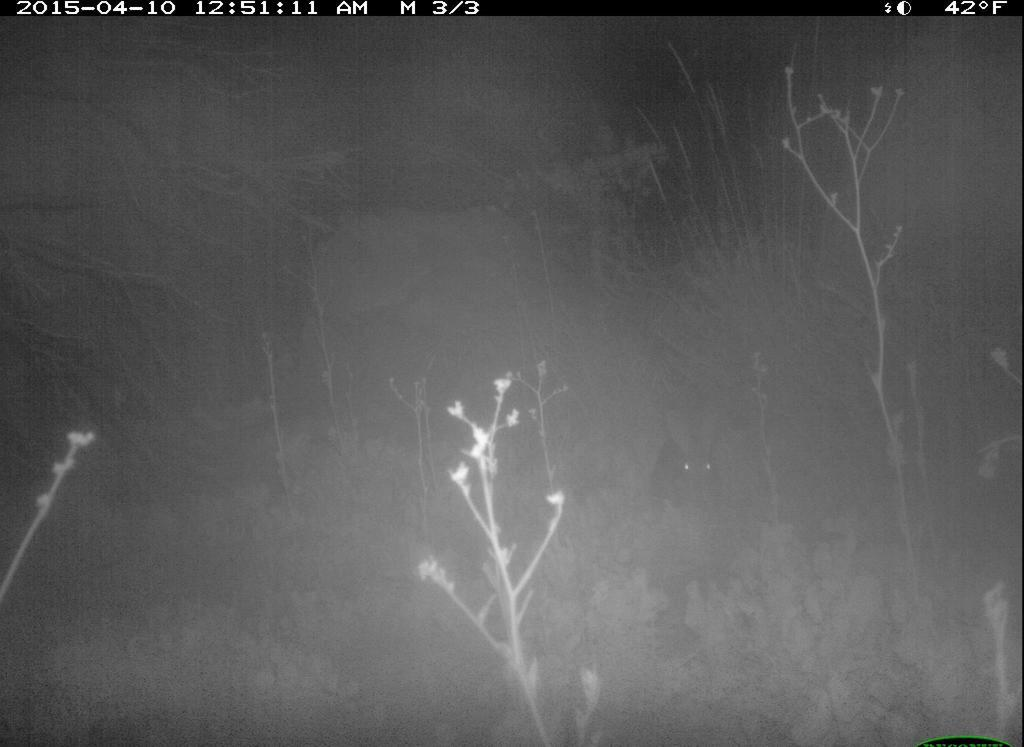rabbit: (642, 433, 734, 521)
